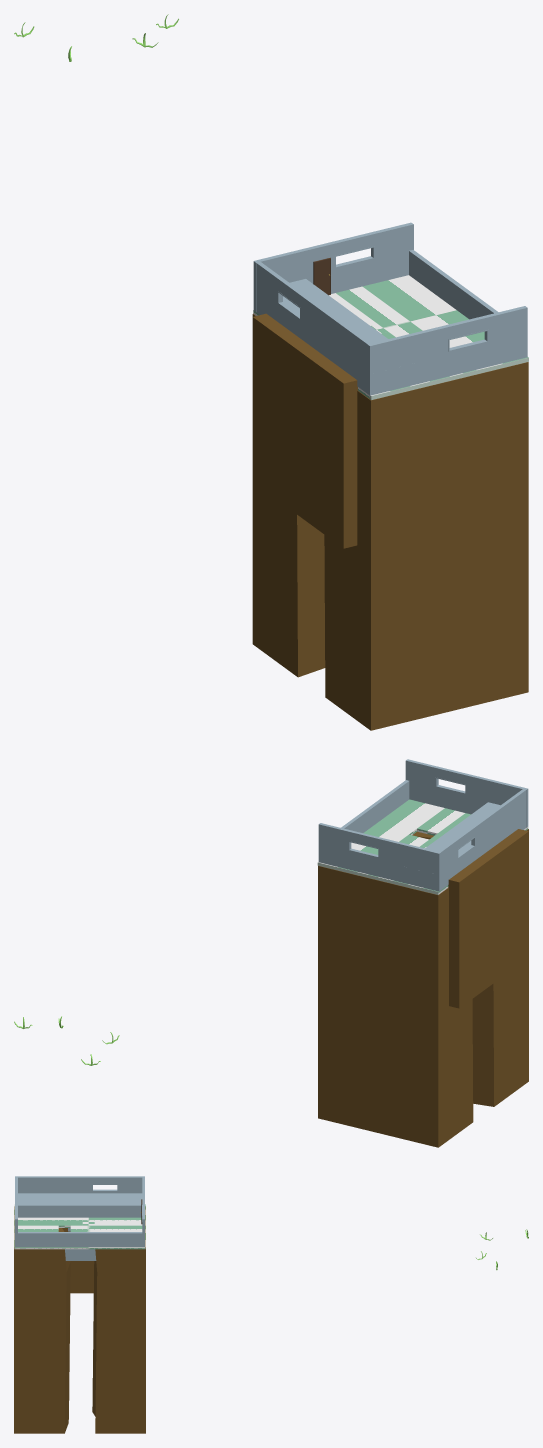
The model's file is level2.fbx.
3 renders of one model, top to bottom at view 1: azimuth 30°, elevation 25°; view 2: azimuth 150°, elevation 25°; view 3: azimuth 270°, elevation 25°, orthographic. The views are drawn at different scales.
Visible parts, largest first — view 1: Cube_3, Cube_7, Cube_2, Cube_4, Cube_1, Cube_6_5, Cube_5, Cube, Cube_9; view 2: Cube_2, Cube_7, Cube_3, Cube_6_5, Cube_4, Cube_1, Cube_5, Cube, Cube_9; view 3: Cube_3, Cube_2, Cube, Cube_1, Cube_9, Cube_5, Cube_7.
Boxes of the visible parts, box(x1,y1,x2,y2) form: Cube_3: box(324, 362, 528, 730); Cube_7: box(252, 313, 357, 548); Cube_2: box(252, 314, 325, 677); Cube_4: box(367, 306, 527, 395); Cube_1: box(253, 275, 528, 400); Cube_6_5: box(253, 222, 413, 311); Cube_5: box(256, 262, 371, 393); Cube: box(283, 279, 419, 394); Cube_9: box(409, 250, 498, 319); Cube_2: box(318, 865, 473, 1147); Cube_7: box(448, 829, 528, 1008); Cube_3: box(412, 829, 528, 1106); Cube_6_5: box(318, 823, 441, 891); Cube_4: box(405, 759, 528, 827); Cube_1: box(317, 799, 528, 894); Cube_5: box(438, 789, 525, 889); Cube: box(401, 802, 500, 890); Cube_9: box(341, 780, 409, 832); Cube_3: box(14, 1206, 70, 1433); Cube_2: box(92, 1206, 145, 1433); Cube: box(18, 1193, 142, 1231); Cube_1: box(14, 1204, 145, 1249); Cube_9: box(18, 1232, 142, 1260); Cube_5: box(18, 1176, 142, 1193); Cube_7: box(70, 1261, 94, 1293).
Bounding box in the file's own units: 3223 × 4650 × 10133.
Materials: 7 (1 with a texture image).
